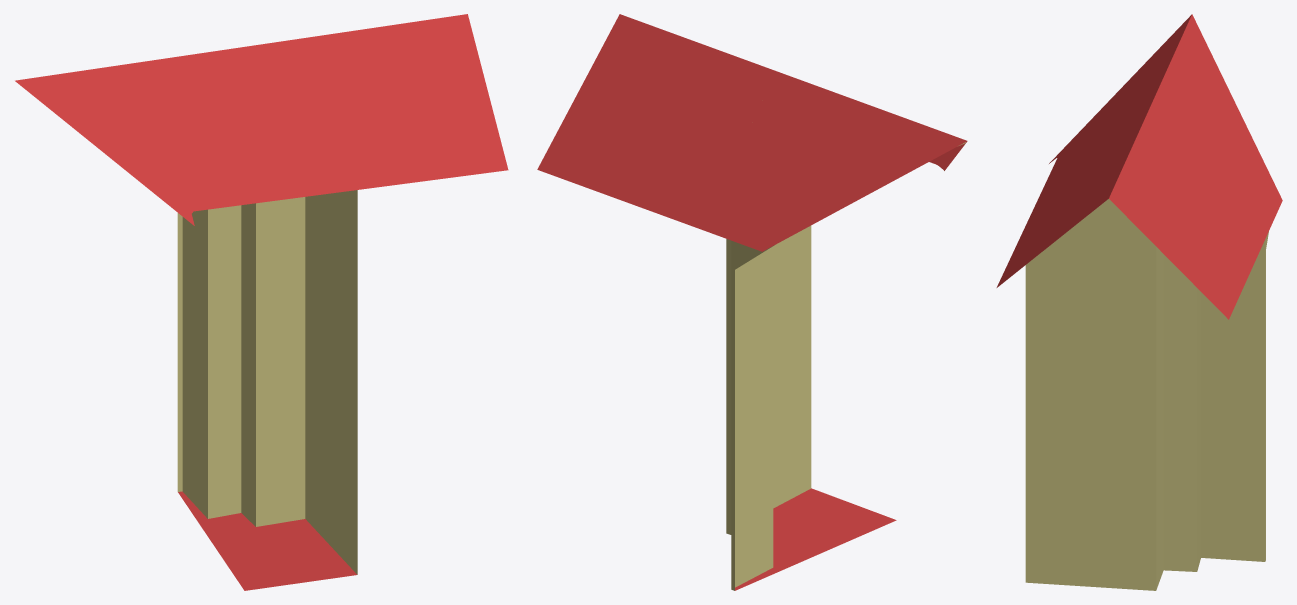
The picture shows the model from 3 angles, left to right: view 1: azimuth 30°, elevation 25°; view 2: azimuth 150°, elevation 25°; view 3: azimuth 270°, elevation 25°; orthographic projection. The views are drawn at different scales.
Size of the model in its own units: 13.67 by 8.52 by 14.9.
